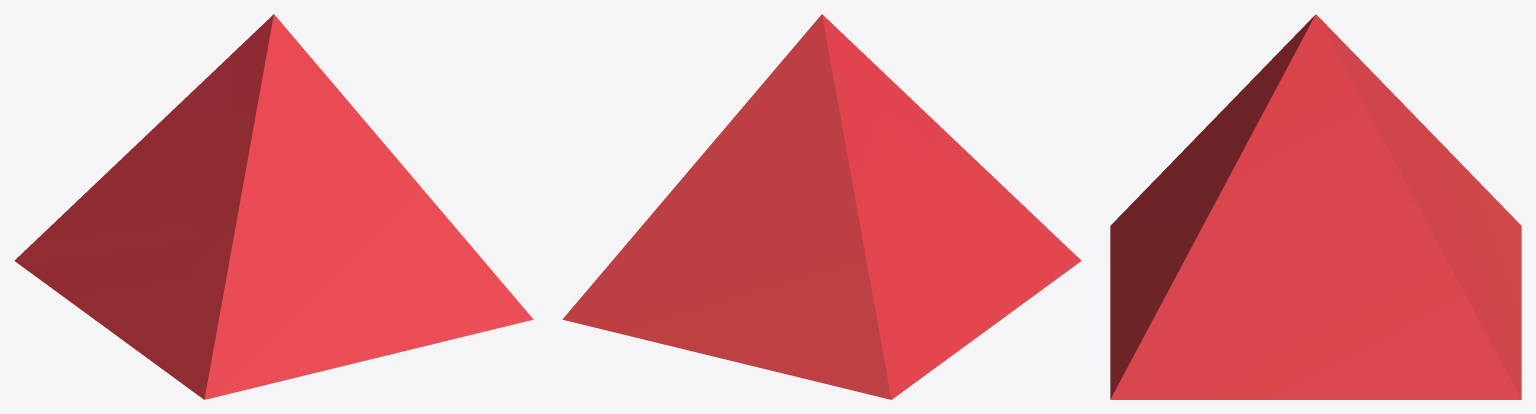
File: obstacle (2).fbx
The picture shows the model from 3 angles, left to right: view 1: azimuth 30°, elevation 25°; view 2: azimuth 150°, elevation 25°; view 3: azimuth 270°, elevation 25°; orthographic projection. The views are drawn at different scales.
Visible parts, largest first — view 1: Cube.011; view 2: Cube.011; view 3: Cube.011.
Boxes of the visible parts, box(x1,y1,x2,y2) form: Cube.011: box(14, 14, 533, 399); Cube.011: box(562, 14, 1081, 399); Cube.011: box(1110, 14, 1521, 399).
Bounding box in the file's own units: 391 × 313 × 391.
